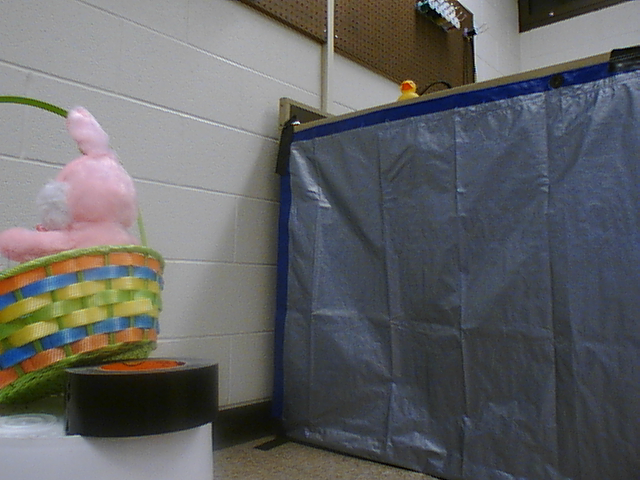bunny: (1, 87, 177, 407)
